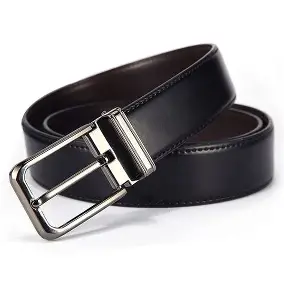sabuk_ada: (9, 42, 271, 228)
